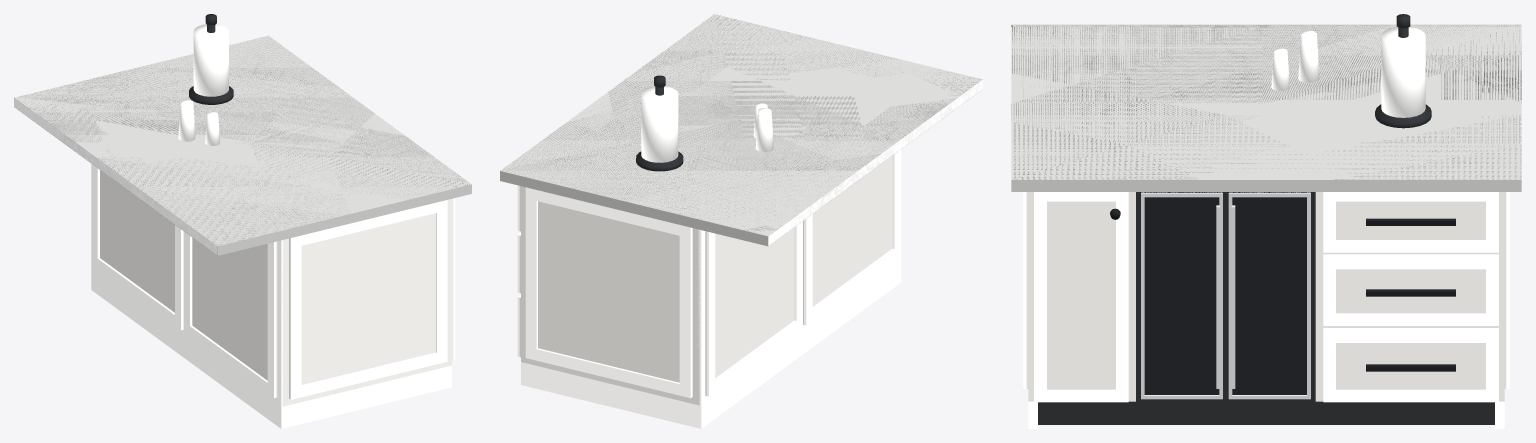
File: Kitchen_Island.glb
The picture shows the model from 3 angles, left to right: view 1: azimuth 30°, elevation 25°; view 2: azimuth 150°, elevation 25°; view 3: azimuth 270°, elevation 25°; orthographic projection. The views are drawn at different scales.
Visible parts, largest first — view 1: root; view 2: root; view 3: root.
Part boxes in pixels (box(x1,y1,x2,y2)): root: box(14, 14, 471, 428); root: box(500, 14, 982, 428); root: box(1011, 14, 1521, 428).
Bounding box in the file's own units: 1.19 × 1.27 × 1.65.
Materials: 12 (2 with a texture image).
